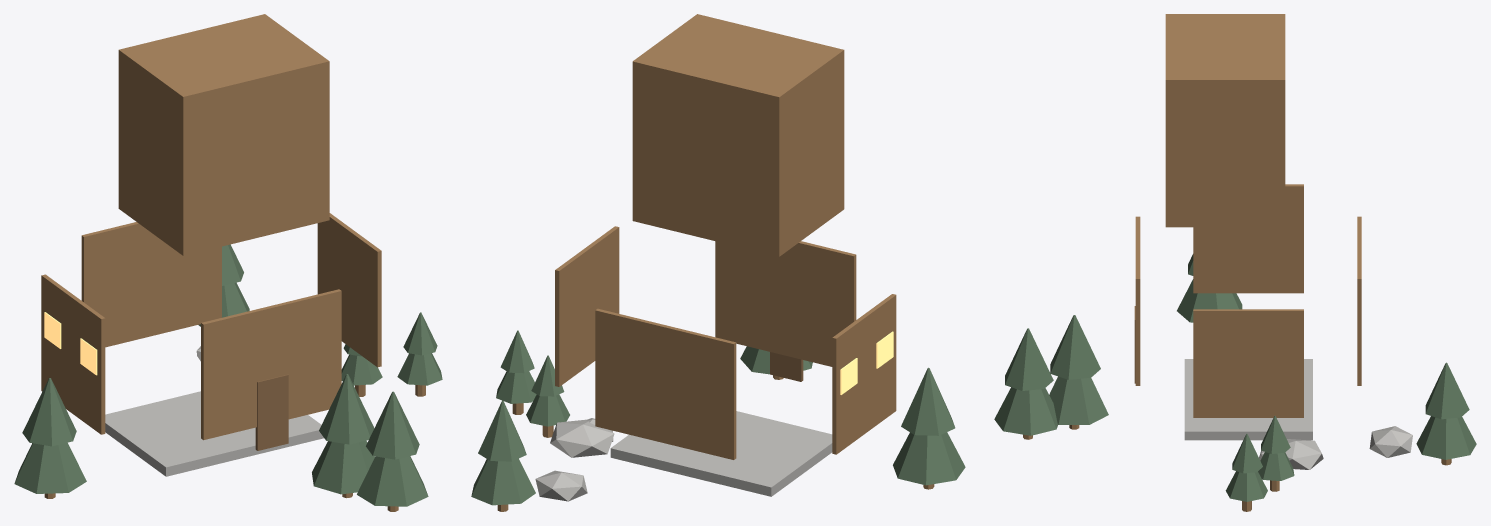
Rendered from grange_002_v1.glb.
3 views of the same model, side by side, from view 1: azimuth 30°, elevation 25°; view 2: azimuth 150°, elevation 25°; view 3: azimuth 270°, elevation 25° (orthographic). The views are drawn at different scales.
Parts seen in each view (by area): view 1: grange; view 2: grange; view 3: grange.
Part boxes in pixels (left/top/right/bottom): grange: left=14, top=14, right=442, bottom=511; grange: left=471, top=14, right=965, bottom=511; grange: left=994, top=14, right=1476, bottom=511.
Bounding box in the file's own units: 6.4 × 5.52 × 6.54.
